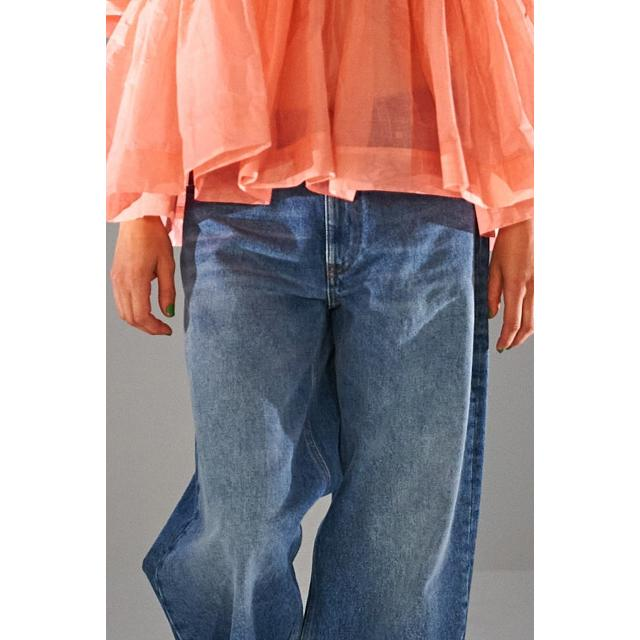denim: (157, 206, 501, 640)
